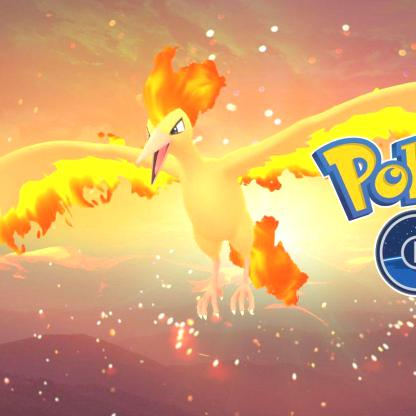Lavados: (0, 0, 415, 415), (8, 0, 415, 415)
